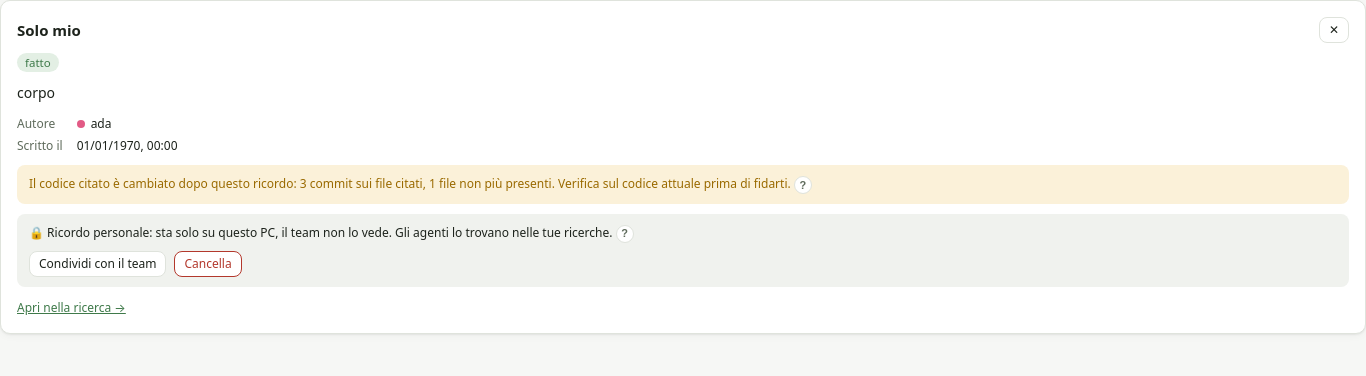
B4 nella UI › pannello di un ricordo personale: condividi o cancella, niente voti; avviso di codice cambiato
Expected: the text "Il codice citato è cambiato dopo questo ricordo: 3 commit" is shown, left=29, top=175, right=791, bottom=192
Click the button "Condividi con il team" at (98, 264), box left=29, top=251, right=166, bottom=277
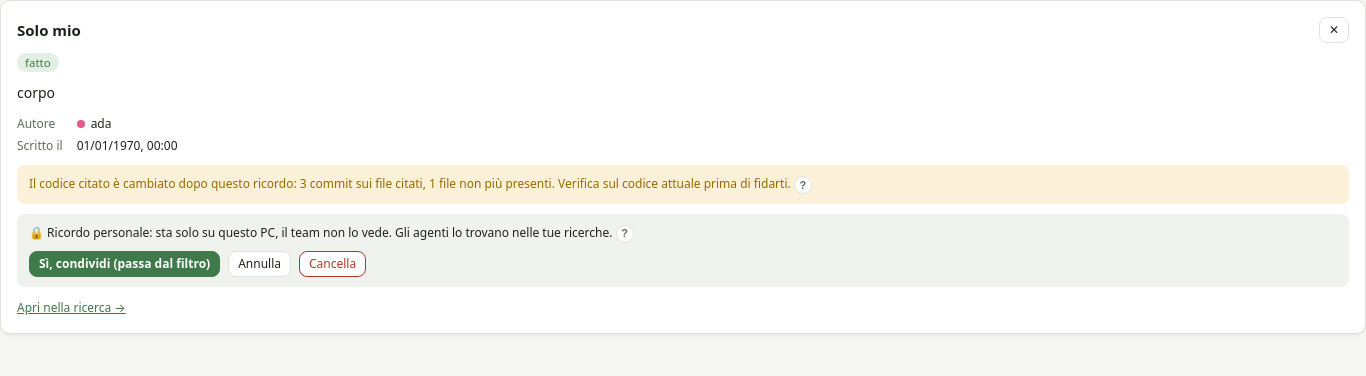
Click the button "Sì, condividi (passa dal filtro)" at (125, 264), box left=29, top=251, right=220, bottom=277
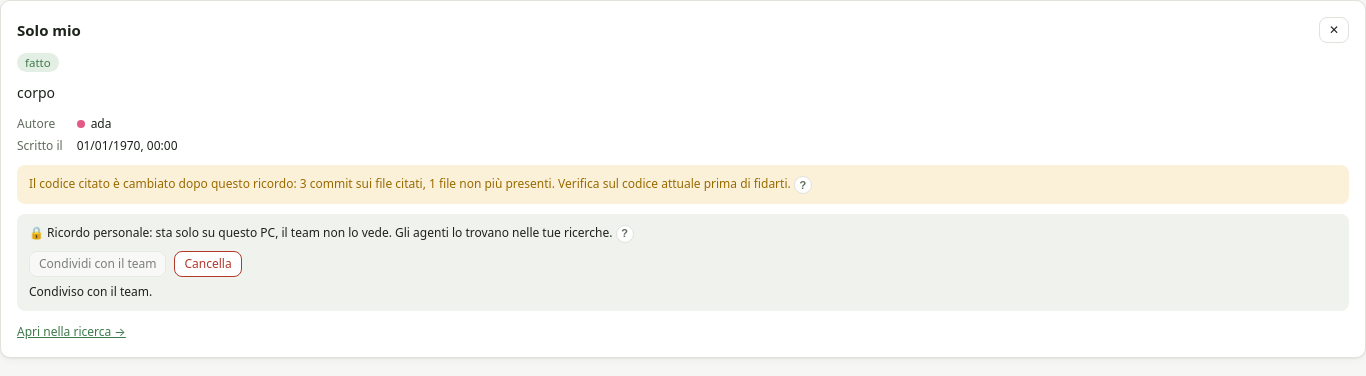
Result: the text "Condiviso con il team." is shown at left=29, top=283, right=152, bottom=300
